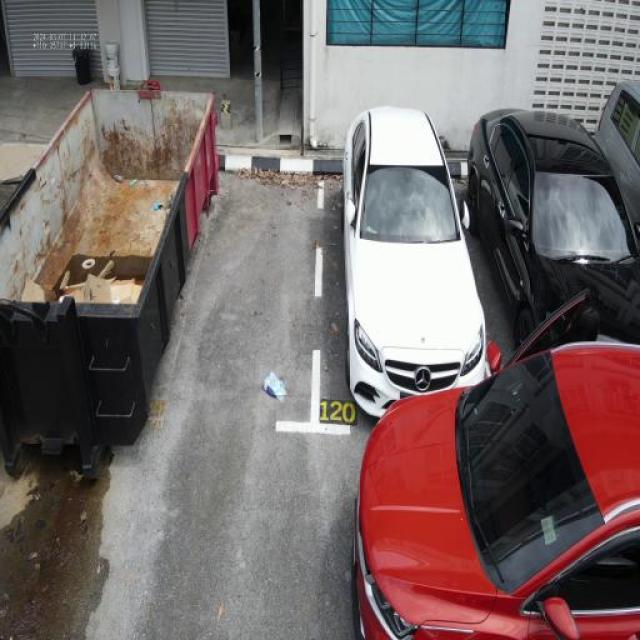Legalparking: (207, 55, 640, 387)
illegalparking: (189, 351, 640, 640)
